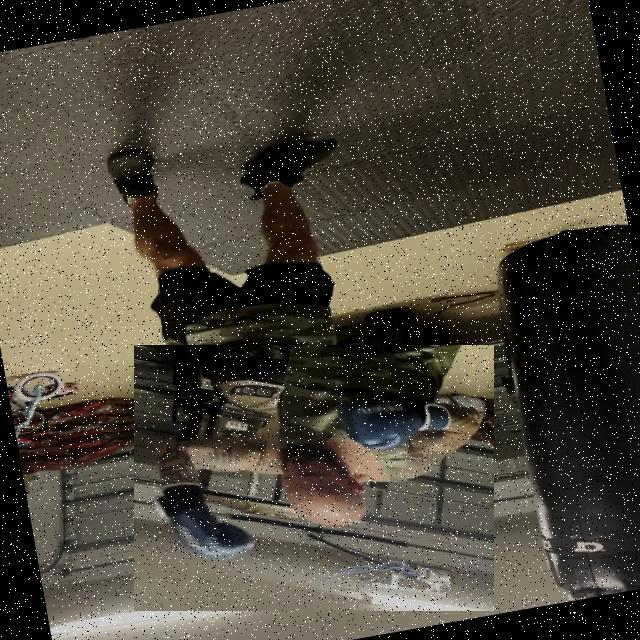punch: (134, 345, 494, 611)
